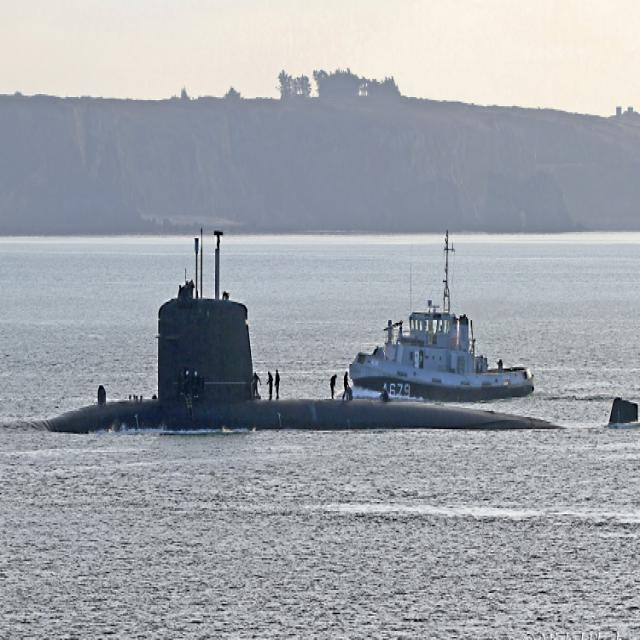submarine: (36, 233, 640, 423)
